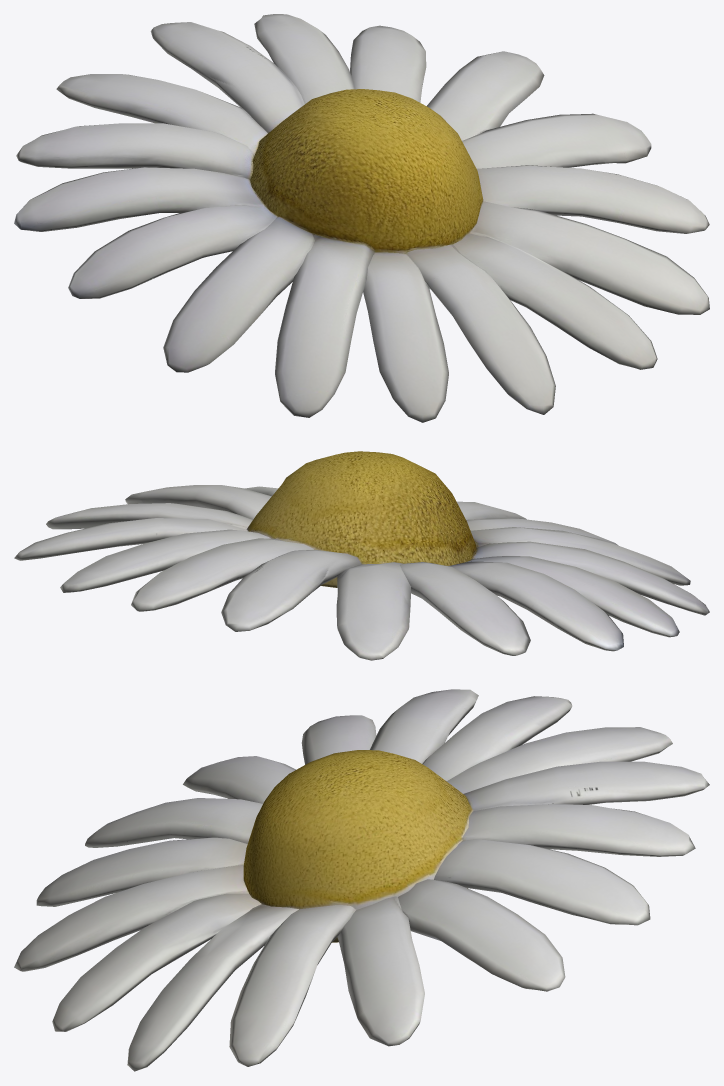
File: camomila_colorida.fbx
The picture shows the model from 3 angles, top to bottom: view 1: azimuth 30°, elevation 25°; view 2: azimuth 150°, elevation 25°; view 3: azimuth 270°, elevation 25°; orthographic projection. The views are drawn at different scales.
Parts seen in each view (by area): view 1: camomila; view 2: camomila; view 3: camomila.
Part boxes in pixels (bbox=[...]): camomila: bbox=[14, 14, 709, 422]; camomila: bbox=[14, 451, 709, 660]; camomila: bbox=[14, 689, 709, 1071].
Bounding box in the file's own units: 98.83 × 29.98 × 94.96.
